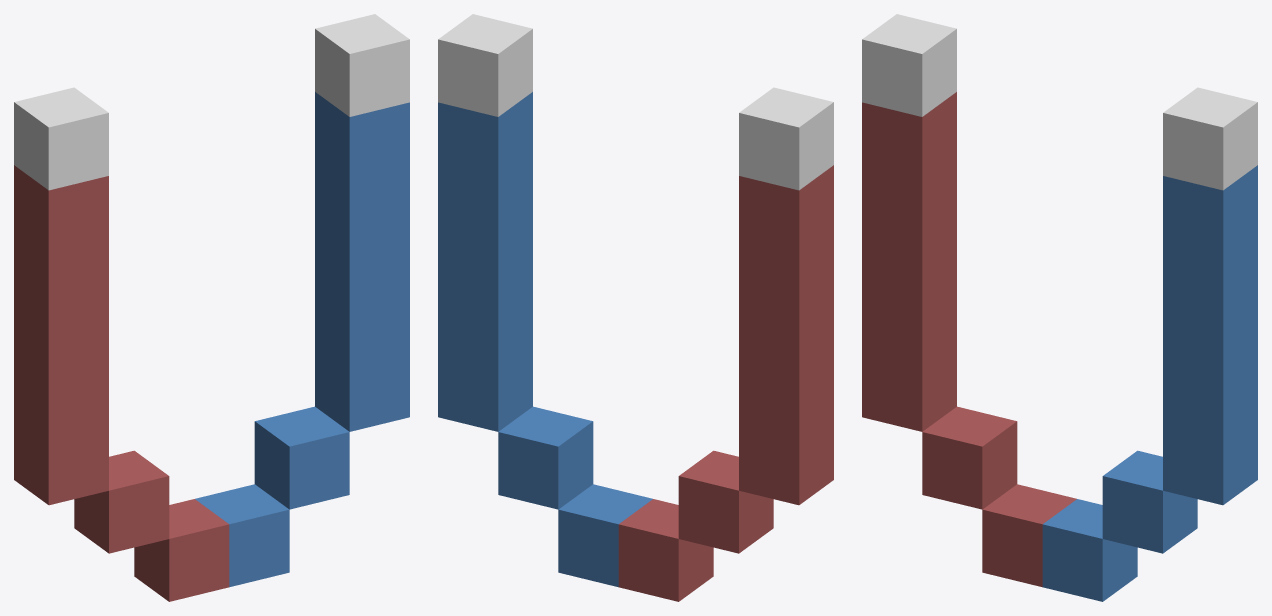
The model's file is Magnet.obj.
3 renders of one model, left to right at view 1: azimuth 30°, elevation 25°; view 2: azimuth 150°, elevation 25°; view 3: azimuth 330°, elevation 25°, orthographic.
Bounding box in the file's own units: 0.6 × 0.8 × 0.1.
Materials: 1 (1 with a texture image).
